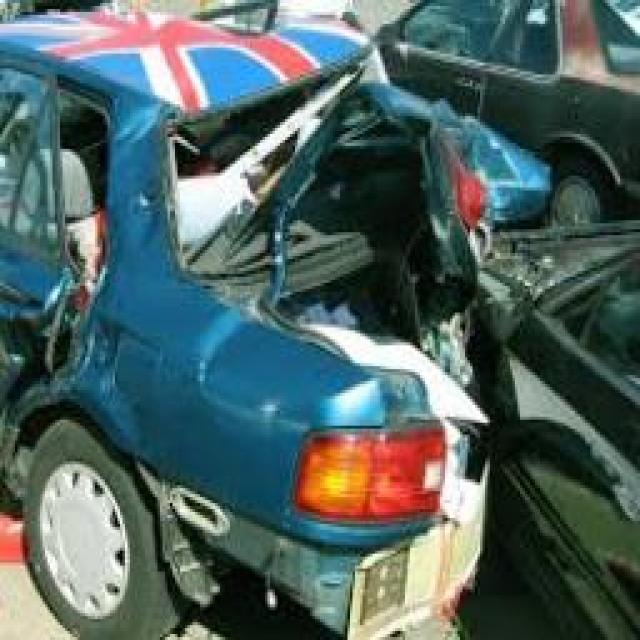Dickey: (201, 94, 564, 407)
Door: (0, 62, 126, 481)
Fender: (102, 110, 328, 437)
Windshield: (163, 41, 403, 260)
